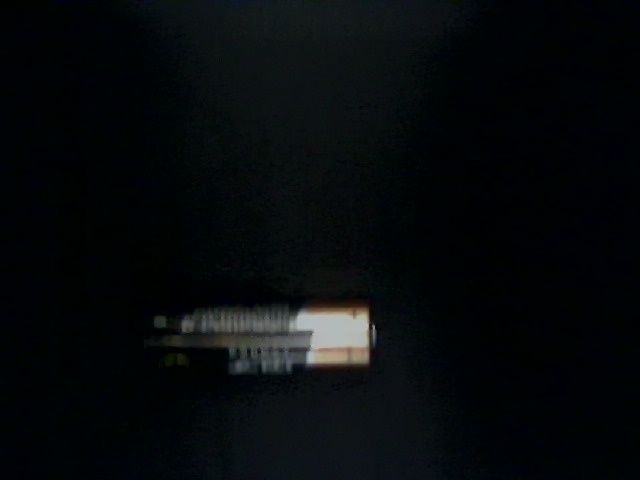YHLJ: (353, 1, 516, 241)
